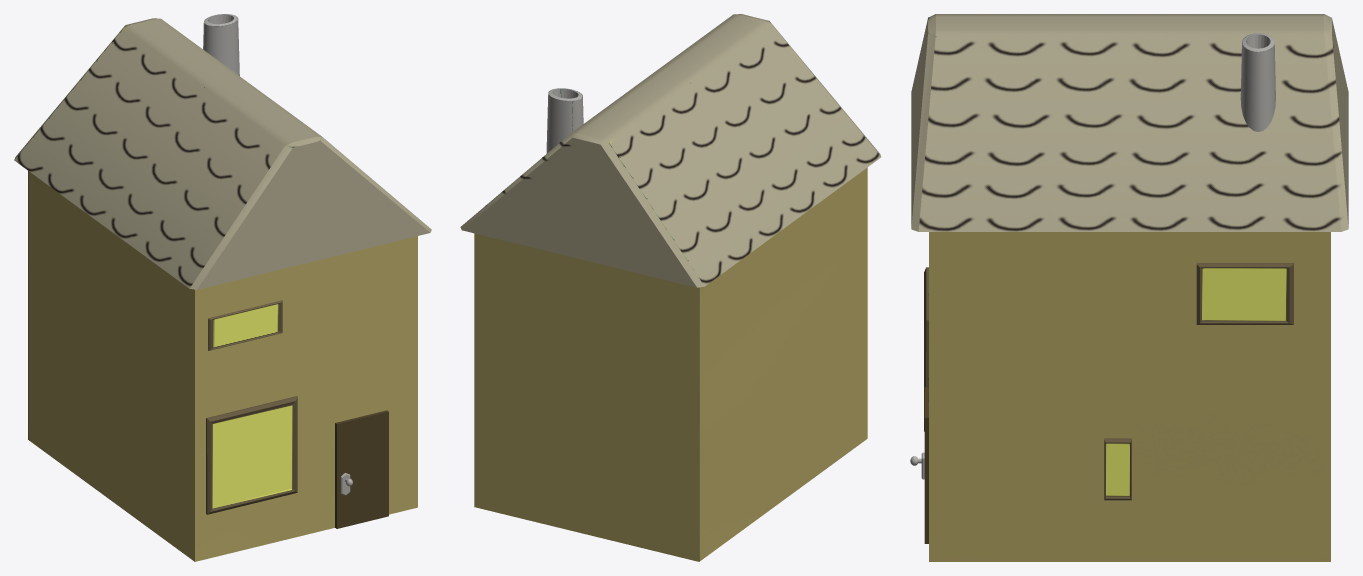
Rendered from House5_export.FBX.
3 views of the same model, side by side, from view 1: azimuth 30°, elevation 25°; view 2: azimuth 150°, elevation 25°; view 3: azimuth 270°, elevation 25° (orthographic). The views are drawn at different scales.
Parts seen in each view (by area): view 1: house003; view 2: house003; view 3: house003.
Part boxes in pixels (x1,y1,x2,y2): house003: (14, 14, 431, 561); house003: (460, 14, 881, 561); house003: (910, 14, 1348, 561).
Size of the model in its own units: 75.4 by 120 by 98.02.
